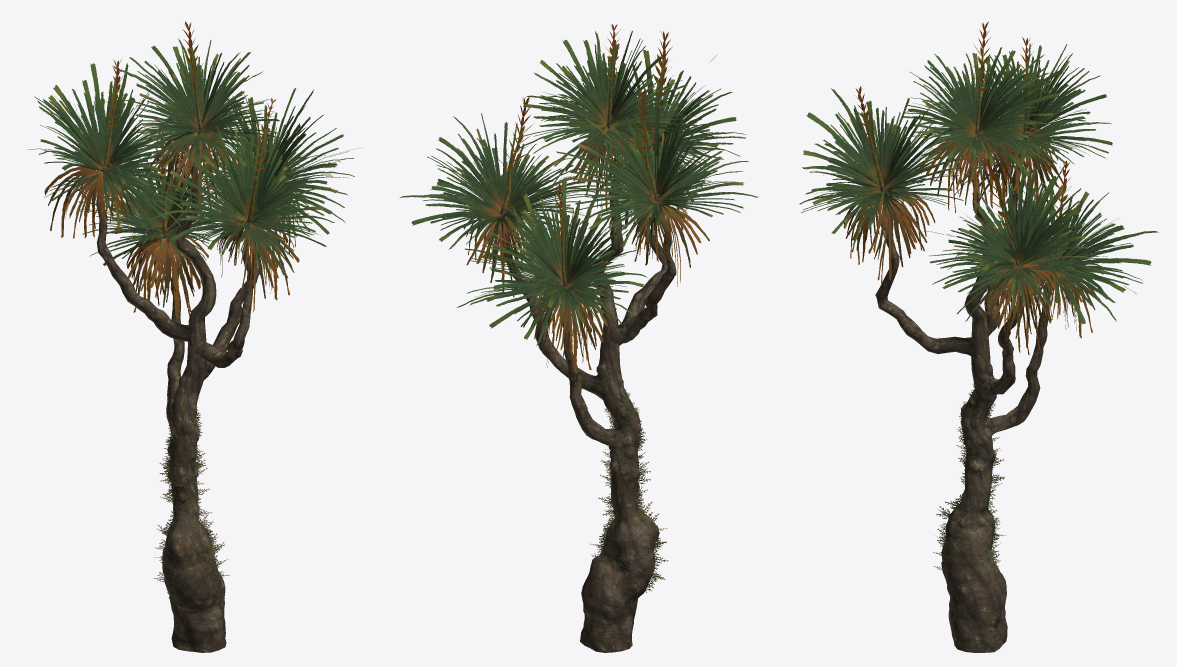
The model's file is Tree - Alien Tree 09 1-DEgVAXU7.glb.
The picture shows the model from 3 angles, left to right: view 1: azimuth 30°, elevation 25°; view 2: azimuth 150°, elevation 25°; view 3: azimuth 270°, elevation 25°; orthographic projection.
Parts seen in each view (by area): view 1: Tree_09_1_L0(Clone); view 2: Tree_09_1_L0(Clone); view 3: Tree_09_1_L0(Clone).
Part boxes in pixels (x1,y1,x2,y2): Tree_09_1_L0(Clone): [27, 21, 364, 652]; Tree_09_1_L0(Clone): [400, 24, 757, 652]; Tree_09_1_L0(Clone): [799, 21, 1158, 652].
Bounding box in the file's own units: 6.77 × 12.36 × 6.71.
Materials: 3 (3 with a texture image).
